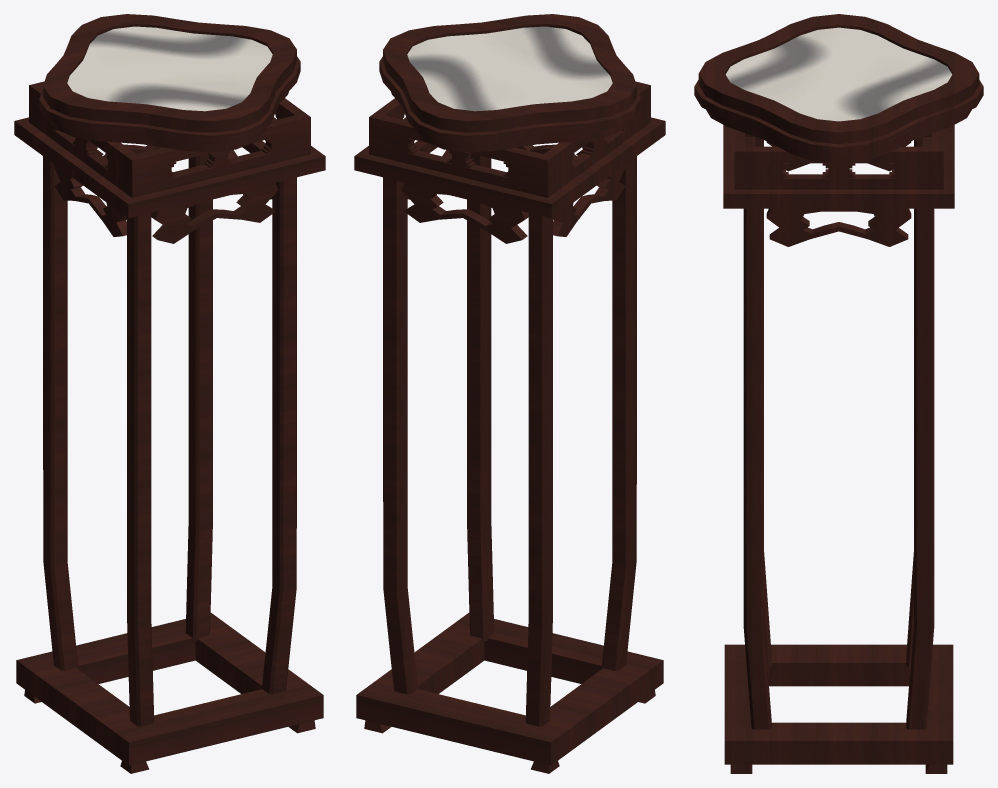
Rendered from huaji-v1.glb.
3 renders of one model, left to right at view 1: azimuth 30°, elevation 25°; view 2: azimuth 150°, elevation 25°; view 3: azimuth 270°, elevation 25°, orthographic.
Parts seen in each view (by area): view 1: huaji, huaji_stone; view 2: huaji, huaji_stone; view 3: huaji, huaji_stone.
Boxes of the visible parts, left/top/right/bottom form: huaji: left=14, top=14, right=325, bottom=773; huaji_stone: left=67, top=26, right=272, bottom=111; huaji: left=354, top=14, right=665, bottom=773; huaji_stone: left=407, top=26, right=612, bottom=111; huaji: left=694, top=14, right=983, bottom=773; huaji_stone: left=725, top=27, right=952, bottom=121.
Bounding box in the file's own units: 0.4 × 1 × 0.4.
Materials: 2 (2 with a texture image).
